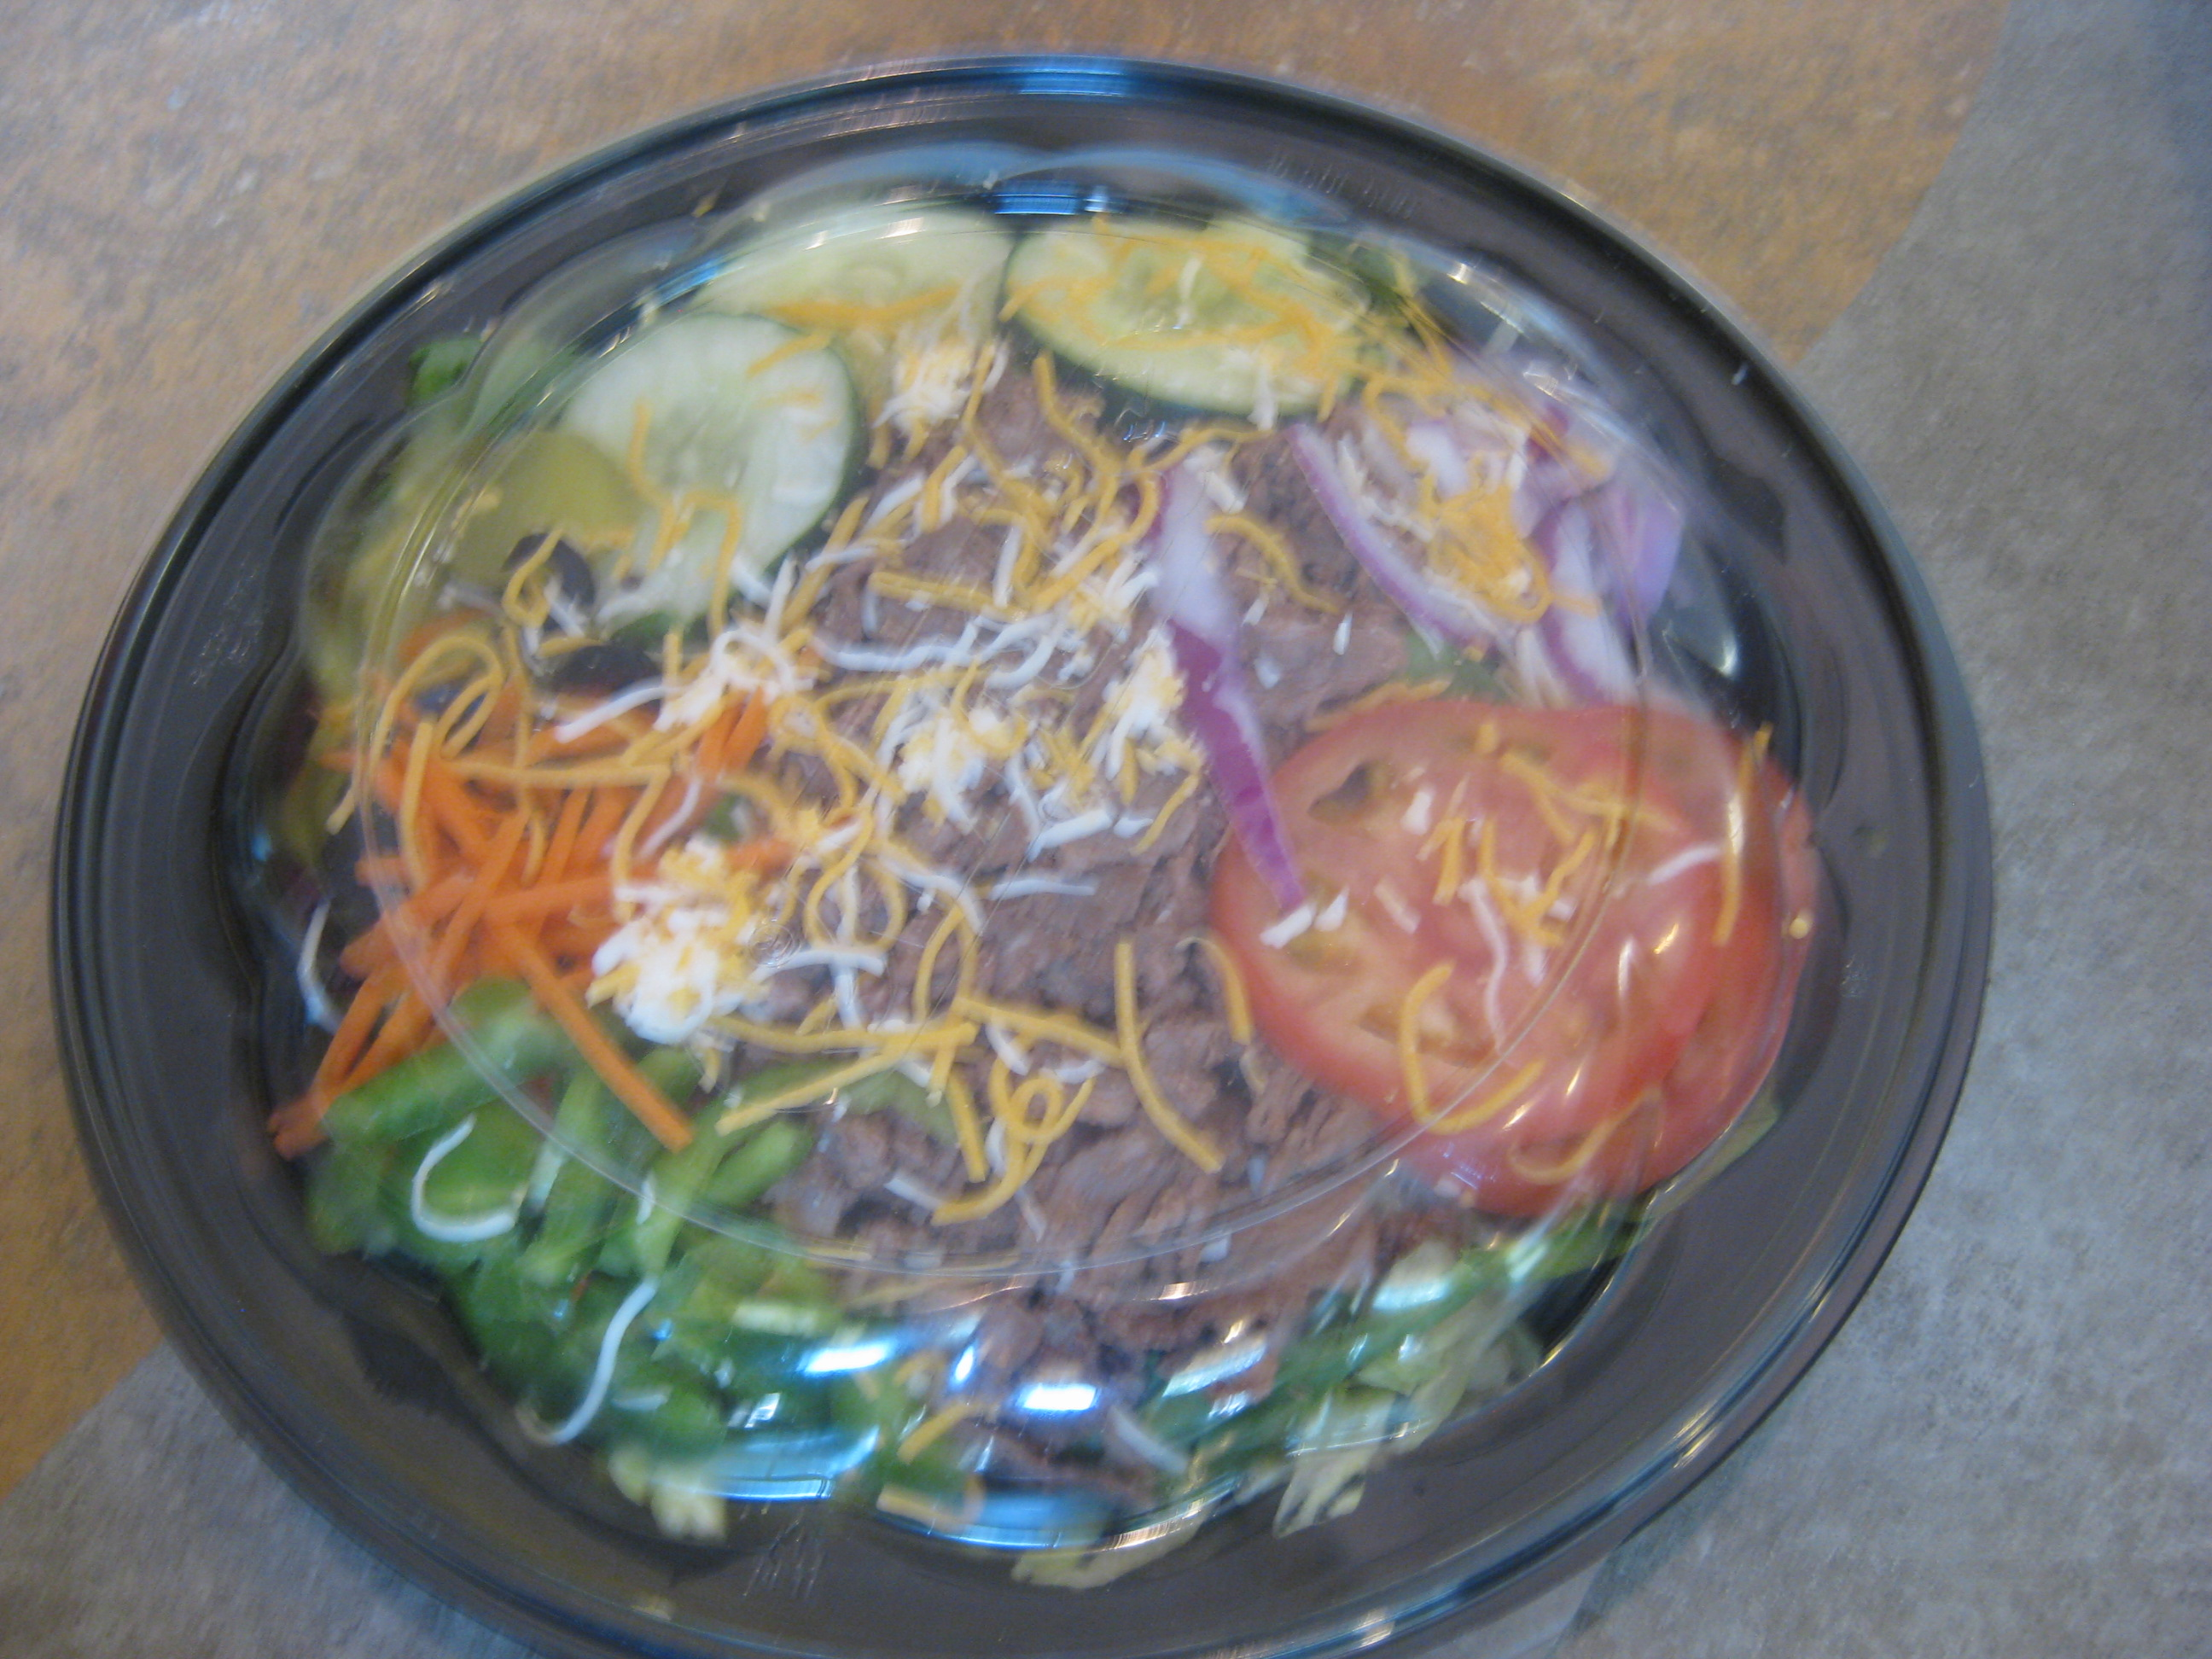salad: (293, 176, 1773, 1553)
